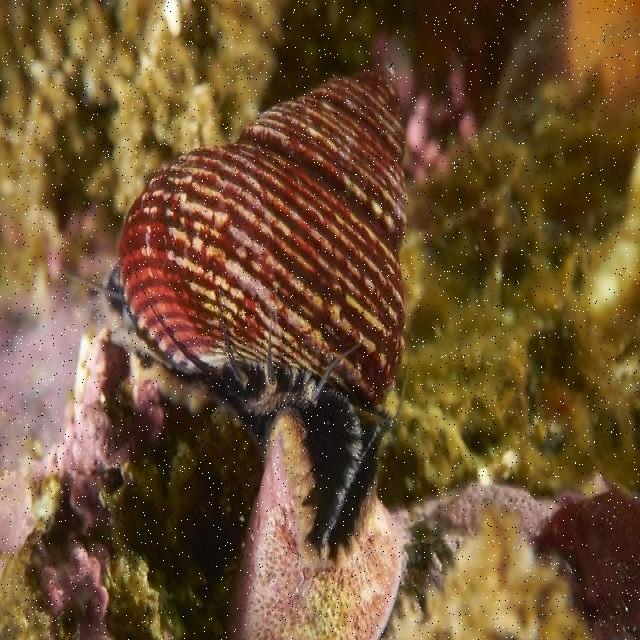reefs: (63, 61, 409, 569)
